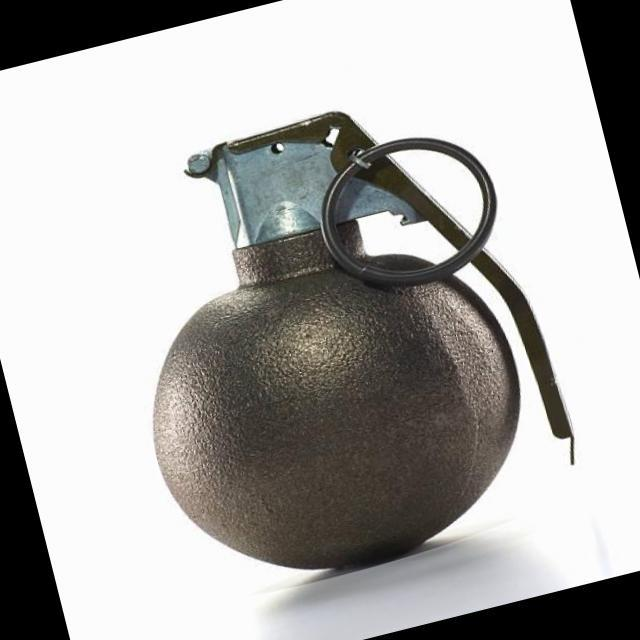grenade: (63, 64, 624, 612)
